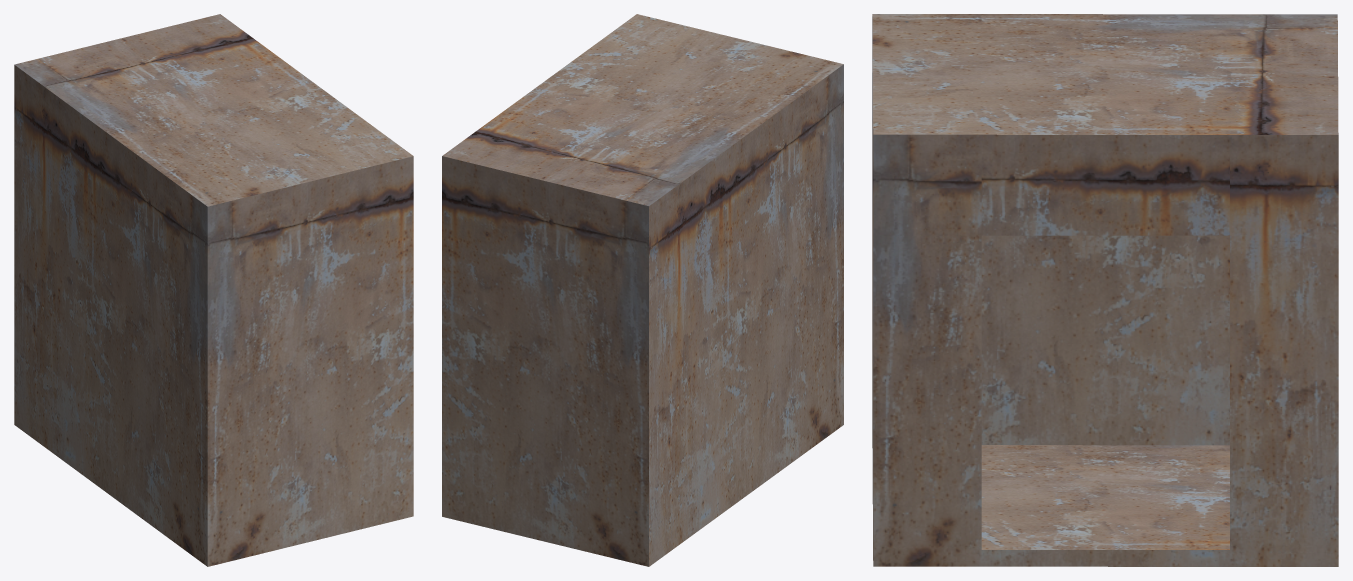
File: SM_Scene_A_Lift00.fbx
The picture shows the model from 3 angles, left to right: view 1: azimuth 30°, elevation 25°; view 2: azimuth 150°, elevation 25°; view 3: azimuth 270°, elevation 25°; orthographic projection. The views are drawn at different scales.
Visible parts, largest first — view 1: SM_Scene_A_Lift00; view 2: SM_Scene_A_Lift00; view 3: SM_Scene_A_Lift00.
Part boxes in pixels (left/top/right/bottom): SM_Scene_A_Lift00: left=14, top=14, right=413, bottom=566; SM_Scene_A_Lift00: left=442, top=14, right=843, bottom=566; SM_Scene_A_Lift00: left=872, top=14, right=1338, bottom=566.
Size of the model in its own units: 249 by 414 by 405.
